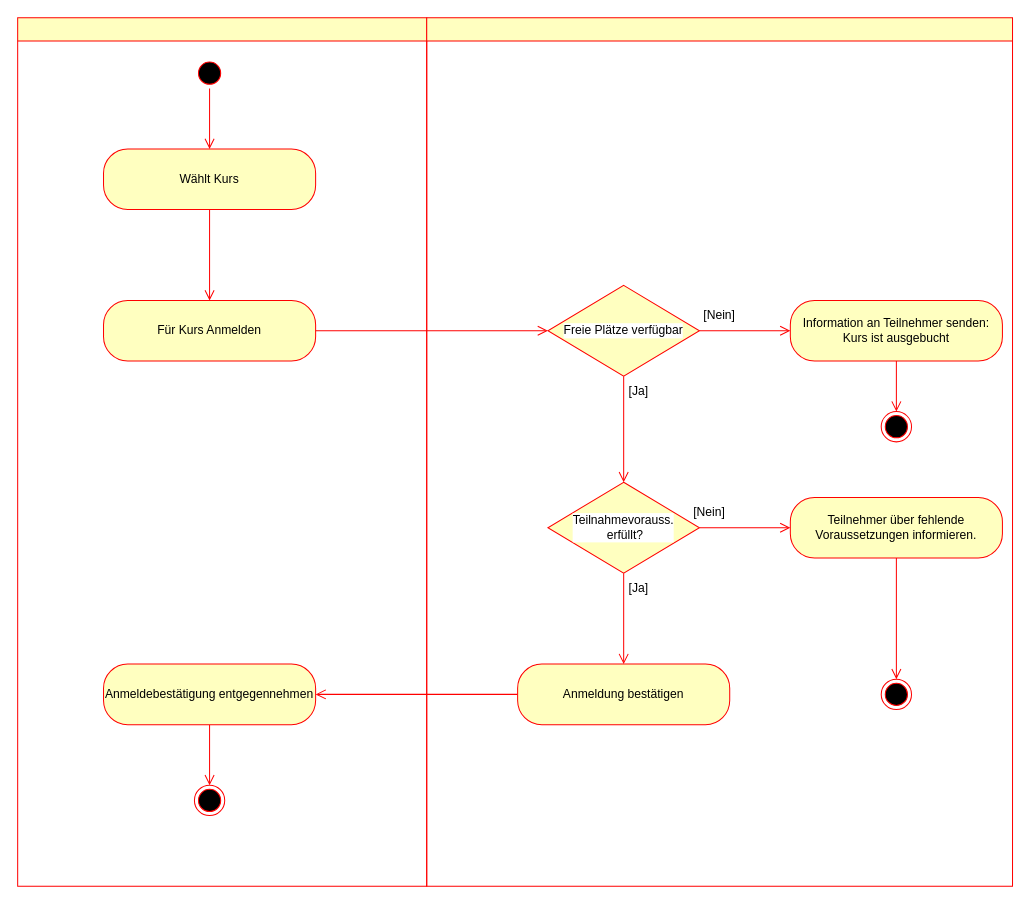
The diagram is 1030 pixels wide and 904 high, and some of its shapes have lost their labels. Here are the shapes that lost their labels. From the top down, the centre of each, then its label:
At point 222,451: "Student".
At point 719,451: "Kursverwaltung".
